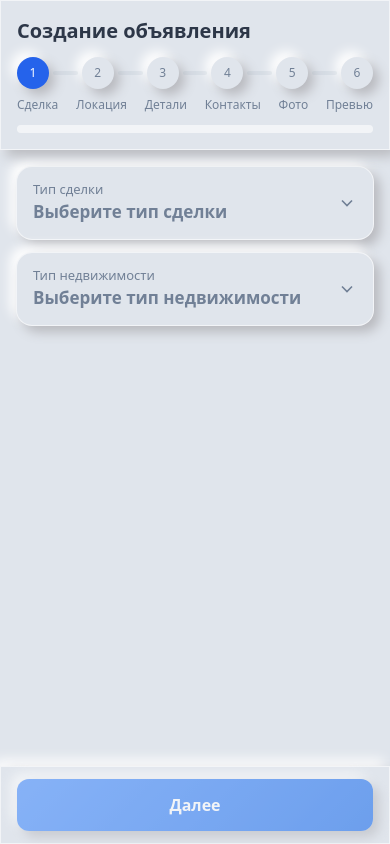
CreateListingWizard — кнопка «Далее» › на шаге 1: кнопка disabled → выбор типа недвижимости → enabled; «Далее» ведёт на шаг 2, панель остаётся в DOM
The image size is (390, 844).
Expected: the button "Далее" is disabled, [17,779,373,831]
// Тип сделки — свёрнутая плитка. Раскрываем и выбираем «Аренду».
Step 1. Click the text "Тип сделки" → (68, 189), box [33,180,103,198]
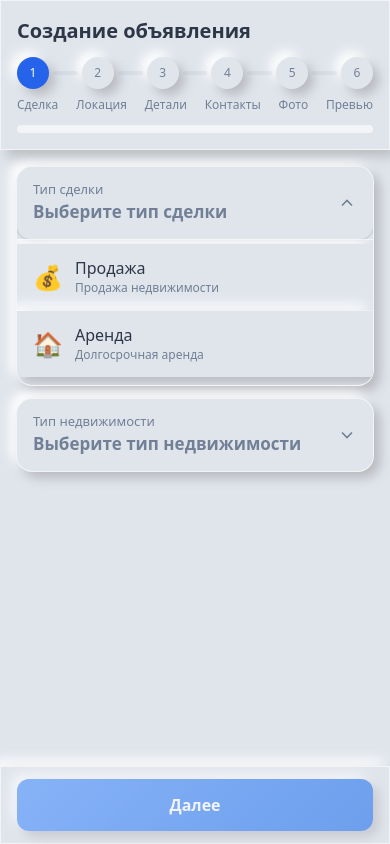
Step 2. Click the text "Аренда" → (104, 335), box [75,324,132,346]
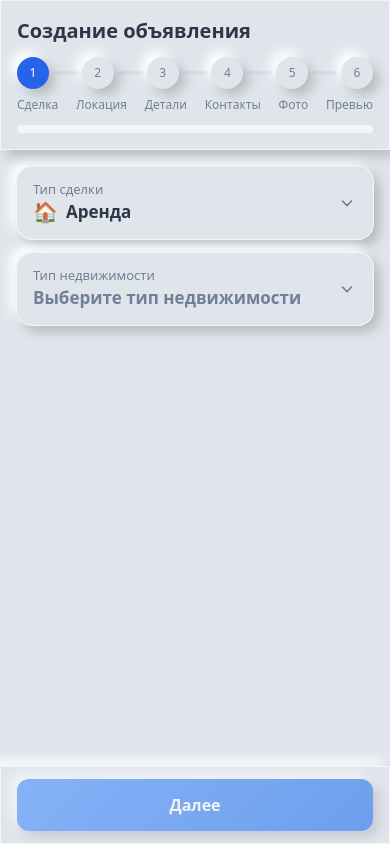
Expected: the button "Далее" is disabled, [17,779,373,831]
Step 3. Click the text "Тип недвижимости" → (94, 275), box [33,266,155,284]
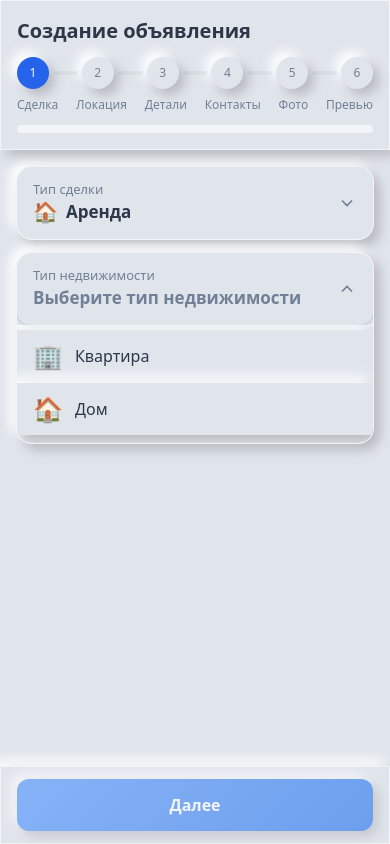
Step 4. Click the text "Квартира" → (112, 356), box [75,344,149,366]
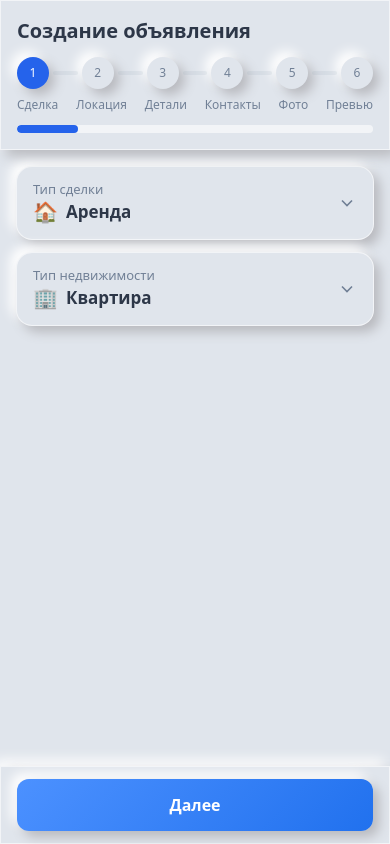
Expected: the button "Далее" is enabled
// Клик «Далее» → следующий шаг. На шаге 2 виден заголовок «Область».
Step 5. Click the button "Далее" → (195, 805), box [17,779,373,831]
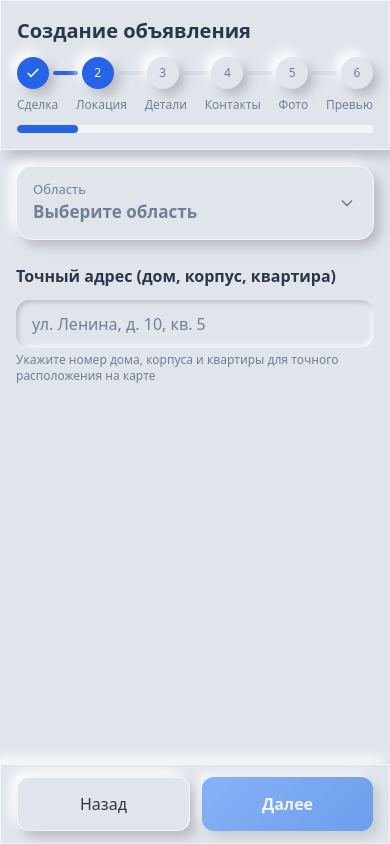
Expected: the button "Далее" is shown, [202,777,373,831]
Expected: the text "Область" is shown, [33,180,86,198]
